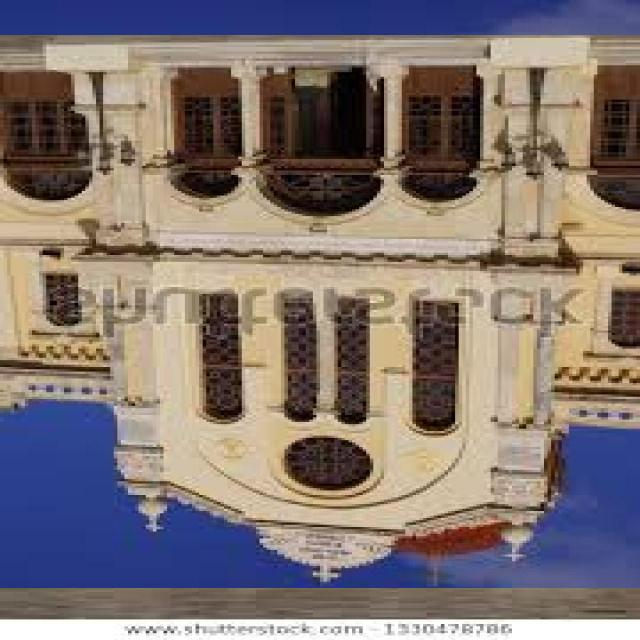Agios Minas: (1, 36, 640, 589)
